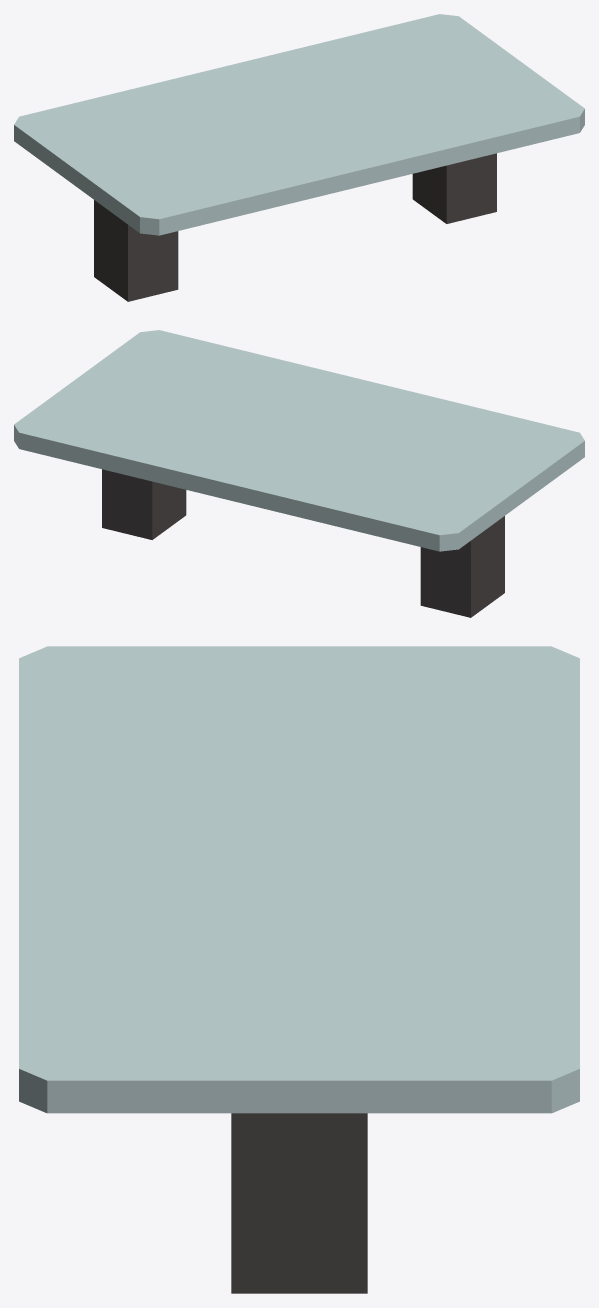
Rendered from Mesa Cuadrada 1.fbx.
3 renders of one model, top to bottom at view 1: azimuth 30°, elevation 25°; view 2: azimuth 150°, elevation 25°; view 3: azimuth 270°, elevation 25°, orthographic. The views are drawn at different scales.
Visible parts, largest first — view 1: pasted__pasted__Superficie, pasted__pasted__Pata_1, pasted__pasted__Pata_2; view 2: pasted__pasted__Superficie, pasted__pasted__Pata_1, pasted__pasted__Pata_2; view 3: pasted__pasted__Superficie, pasted__pasted__Pata_2.
Part boxes in pixels (x1,y1,x2,y2): pasted__pasted__Superficie: (14,14,584,235); pasted__pasted__Pata_1: (94,200,178,301); pasted__pasted__Pata_2: (412,153,496,223); pasted__pasted__Superficie: (14,330,584,551); pasted__pasted__Pata_1: (420,516,504,617); pasted__pasted__Pata_2: (102,469,186,539); pasted__pasted__Superficie: (19,646,579,1113); pasted__pasted__Pata_2: (231,1113,367,1293).
Size of the model in its own units: 4.9 by 1.34 by 2.68.
